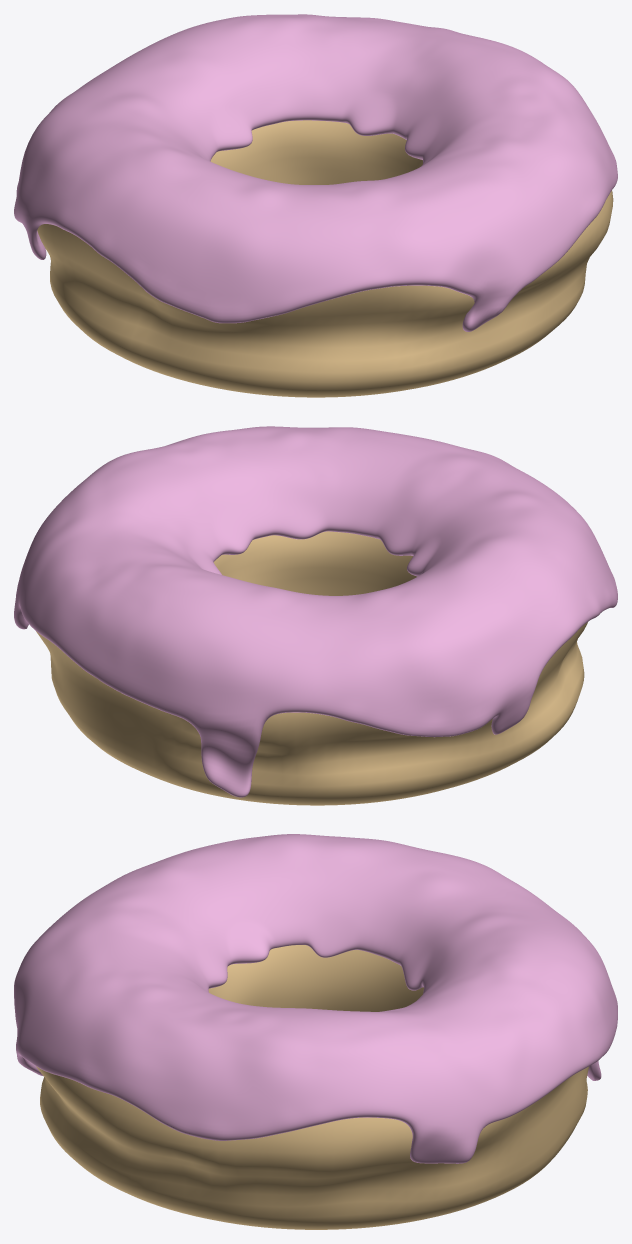
The model's file is donut.gtlf.glb.
The picture shows the model from 3 angles, top to bottom: view 1: azimuth 30°, elevation 25°; view 2: azimuth 150°, elevation 25°; view 3: azimuth 270°, elevation 25°; orthographic projection. The views are drawn at different scales.
Visible parts, largest first — view 1: Icing, Donut; view 2: Icing, Donut; view 3: Icing, Donut.
Boxes of the visible parts, <box> form: Icing: <box>14,14,617,331</box>; Donut: <box>37,120,613,397</box>; Icing: <box>14,426,617,797</box>; Donut: <box>36,531,587,805</box>; Icing: <box>14,834,617,1163</box>; Donut: <box>36,945,588,1229</box>.
Size of what is drawn, in the model's own units: 0.1478 by 0.0557 by 0.1469.
